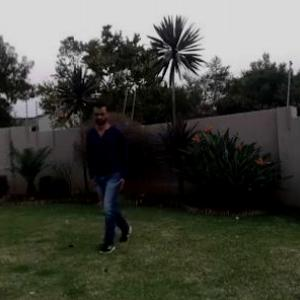follow: (90, 99, 130, 237)
